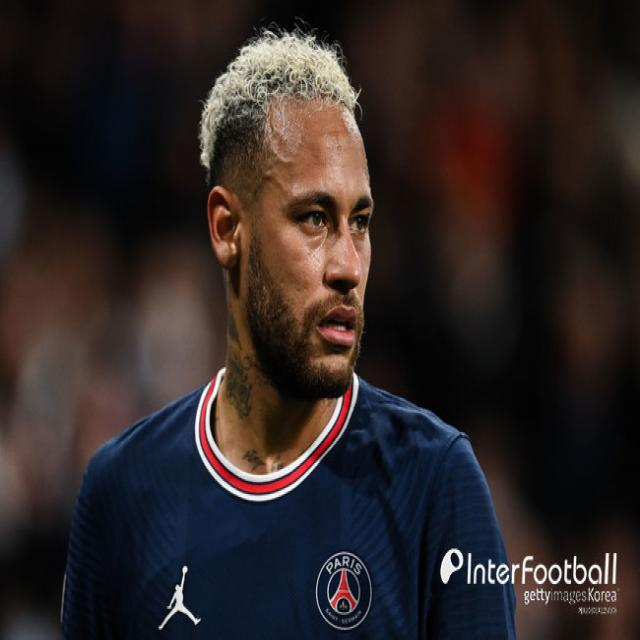neymar: (206, 66, 377, 396)
